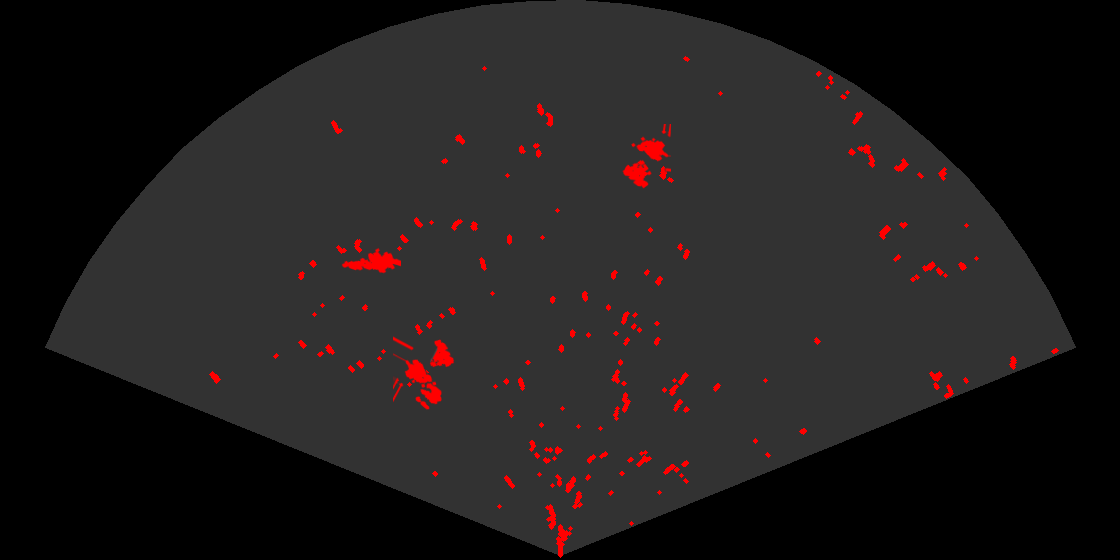ball: (414, 381, 444, 411)
cage: (393, 335, 456, 404), (621, 124, 671, 190)
frogman: (340, 246, 401, 275)
